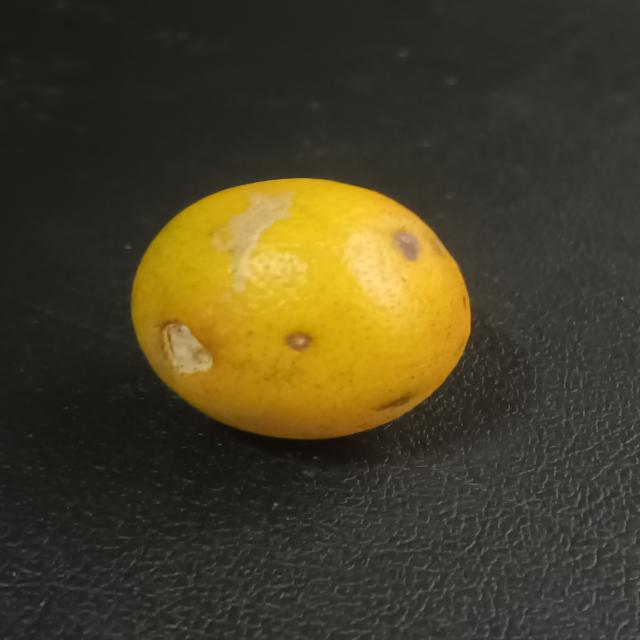black spot: (121, 168, 485, 446)
